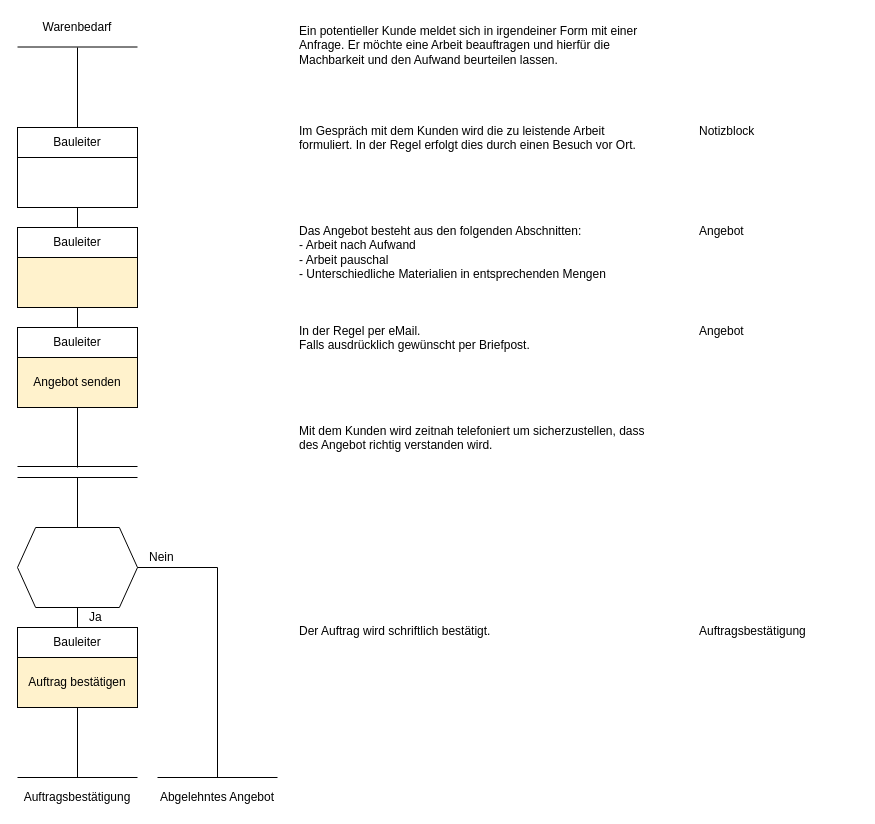
The diagram is 875 pixels wide and 824 high, and some of its shapes have lost their labels. The centre of each missing label's shape, as x and y in pixels:
"Anfrage beurteilen" belongs at point (77, 182).
"Angebot angenommen?" belongs at point (77, 567).
"Angebot erstellen" belongs at point (77, 282).
